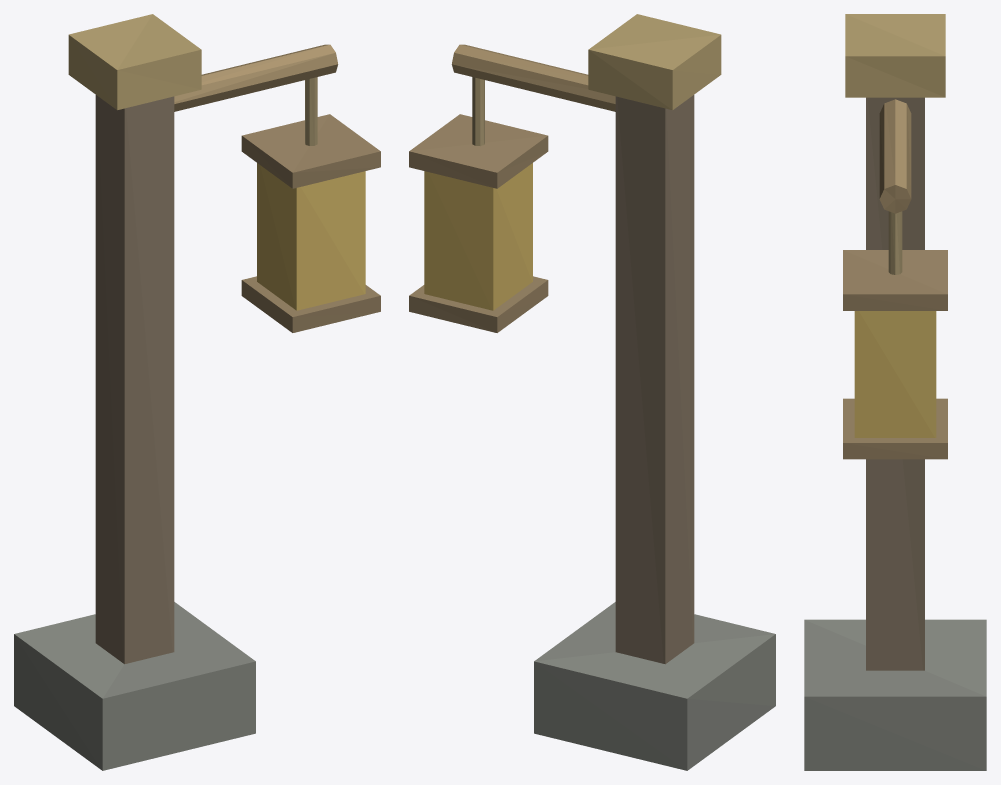
Rendered from lamp_post.glb.
The picture shows the model from 3 angles, left to right: view 1: azimuth 30°, elevation 25°; view 2: azimuth 150°, elevation 25°; view 3: azimuth 270°, elevation 25°; orthographic projection. The views are drawn at different scales.
Visible parts, largest first — view 1: post, foundation, lantern, postcap, lantern_top, arm, lantern_base, chain; view 2: post, foundation, lantern, postcap, lantern_top, arm, lantern_base, chain; view 3: foundation, post, lantern, postcap, lantern_top, arm, lantern_base, chain.
Boxes of the visible parts, x1,y1,x2,y2 form: post: (95,95,174,664); foundation: (14,602,255,770); lantern: (257,163,365,310); postcap: (68,14,201,110); lantern_top: (241,114,380,188); arm: (174,44,338,111); lantern_base: (241,276,380,332); chain: (305,77,317,145); post: (615,95,694,664); foundation: (534,602,775,770); lantern: (424,163,532,310); postcap: (588,14,721,110); lantern_top: (409,114,548,188); arm: (451,44,615,111); lantern_base: (409,276,548,332); chain: (472,77,484,145); foundation: (804,619,986,770); post: (866,97,924,670); lantern: (854,311,936,437); postcap: (845,14,945,97); lantern_top: (843,250,947,310); arm: (879,99,911,213); lantern_base: (843,398,947,459); chain: (888,211,902,274).
Bounding box in the file's own units: 0.775 × 1.69 × 0.4.
